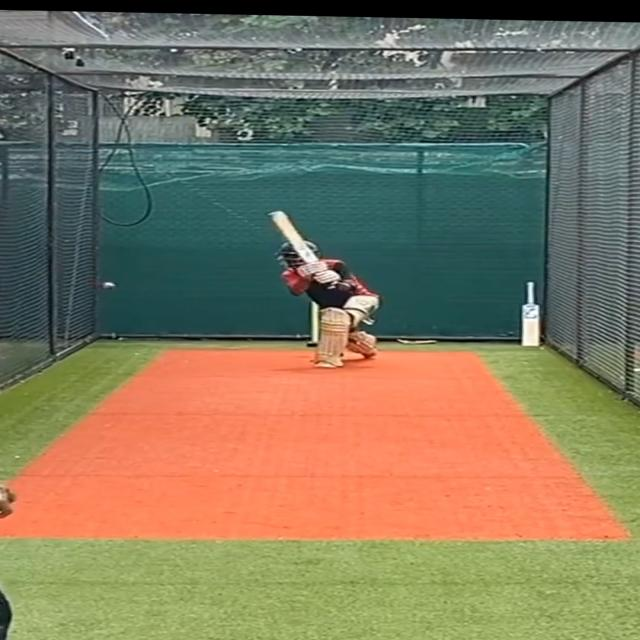ball: (97, 279, 121, 294)
